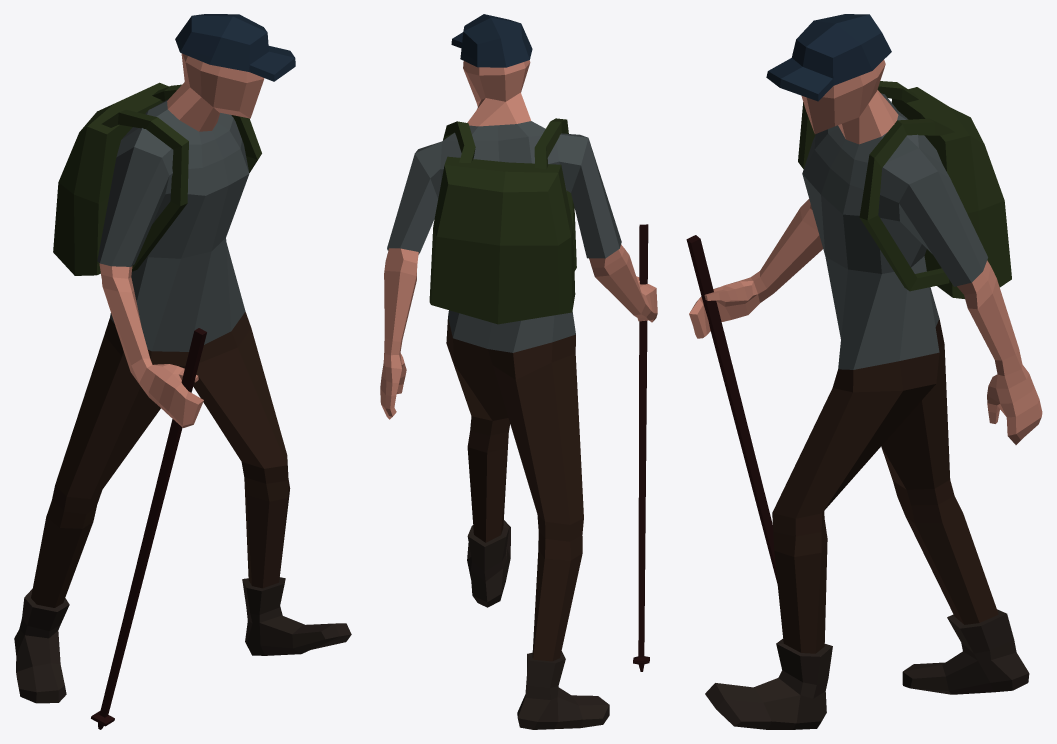
The model's file is Walking.obj.
3 views of the same model, side by side, from view 1: azimuth 30°, elevation 25°; view 2: azimuth 150°, elevation 25°; view 3: azimuth 270°, elevation 25° (orthographic). The views are drawn at different scales.
Parts seen in each view (by area): view 1: Model_walk_Untitled.001; view 2: Model_walk_Untitled.001; view 3: Model_walk_Untitled.001.
Part boxes in pixels (x1,y1,x2,y2): Model_walk_Untitled.001: (14,14,351,729); Model_walk_Untitled.001: (380,14,657,729); Model_walk_Untitled.001: (686,14,1042,729).
Size of the model in its own units: 0.3361 by 0.9293 by 0.4052.
